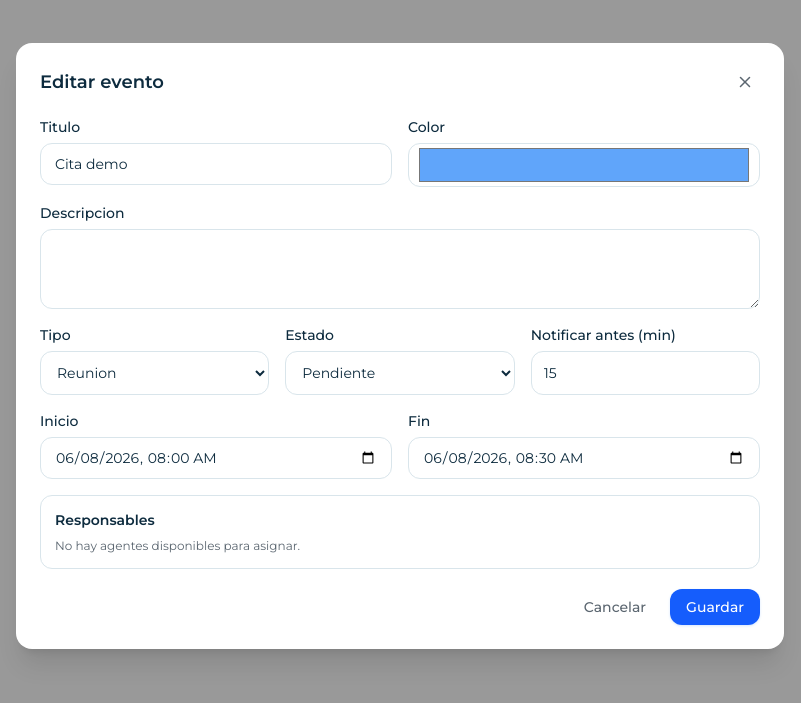
AgendaEventModal › shows backend api error message when save fails
What coordinates should you click on to do the following:
click the button "Guardar"
I would click on:
 (715, 607)
Its box is x1=670 y1=589 x2=760 y2=625.
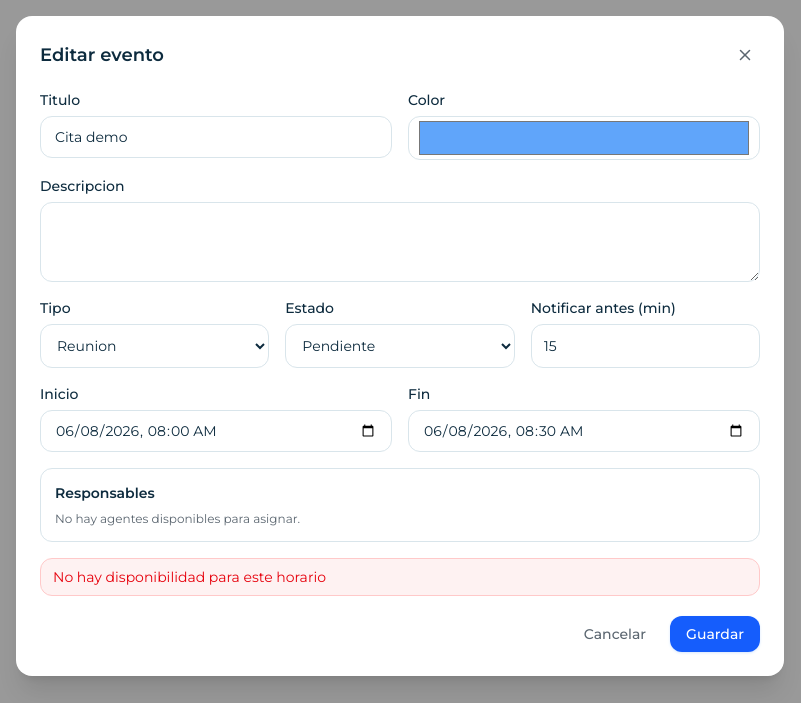
expect the text "No hay disponibilidad para este horario" is shown: met, box x1=40 y1=558 x2=760 y2=596
